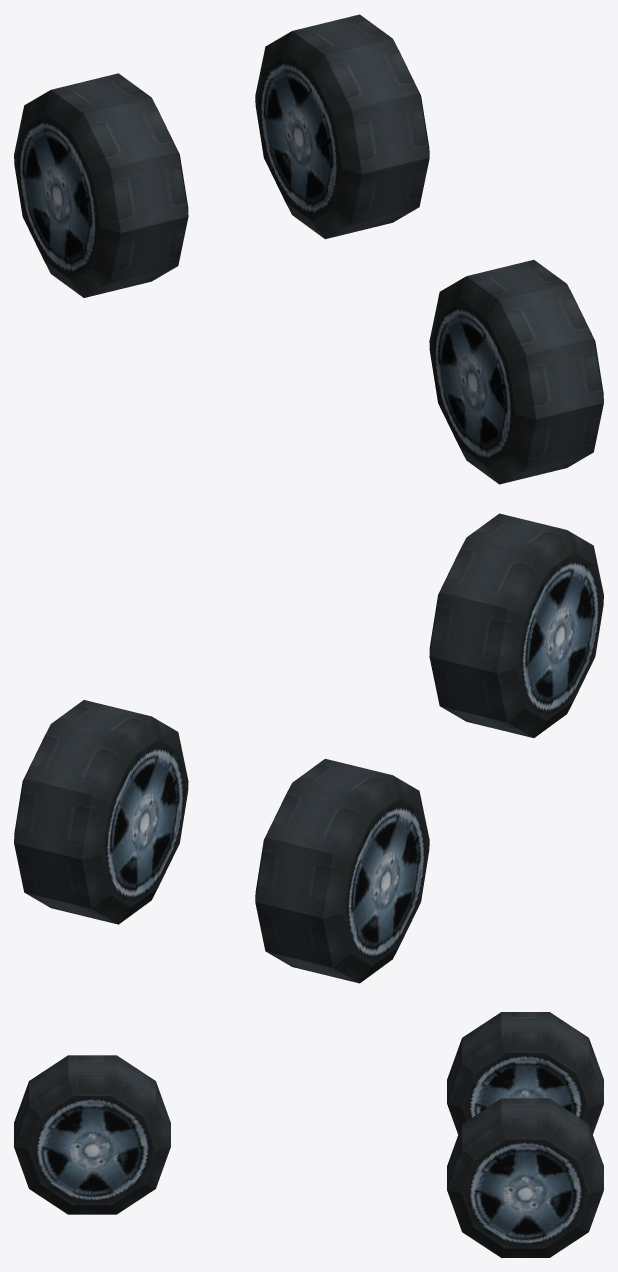
File: Kart 3 Wheels.glb
3 views of the same model, one above another, from view 1: azimuth 30°, elevation 25°; view 2: azimuth 150°, elevation 25°; view 3: azimuth 270°, elevation 25° (orthographic). The views are drawn at different scales.
Visible parts, largest first — view 1: left_wheel, front_wheel, right_wheel; view 2: right_wheel, front_wheel, left_wheel; view 3: front_wheel, left_wheel, right_wheel.
Part boxes in pixels (x1,y1,x2,y2): left_wheel: [255, 14, 429, 239]; front_wheel: [429, 260, 603, 484]; right_wheel: [14, 73, 188, 297]; right_wheel: [255, 758, 429, 983]; front_wheel: [429, 513, 603, 737]; left_wheel: [14, 700, 188, 924]; front_wheel: [14, 1055, 170, 1214]; left_wheel: [447, 1098, 603, 1257]; right_wheel: [447, 1012, 603, 1134].
Size of the model in its own units: 1.89 by 1.01 by 4.
1 material, 1 textured.
